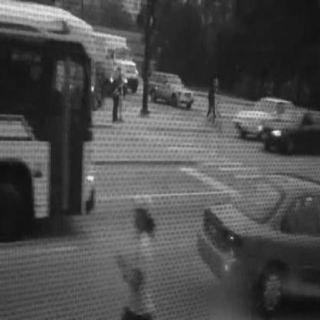other: (83, 162, 95, 185)
